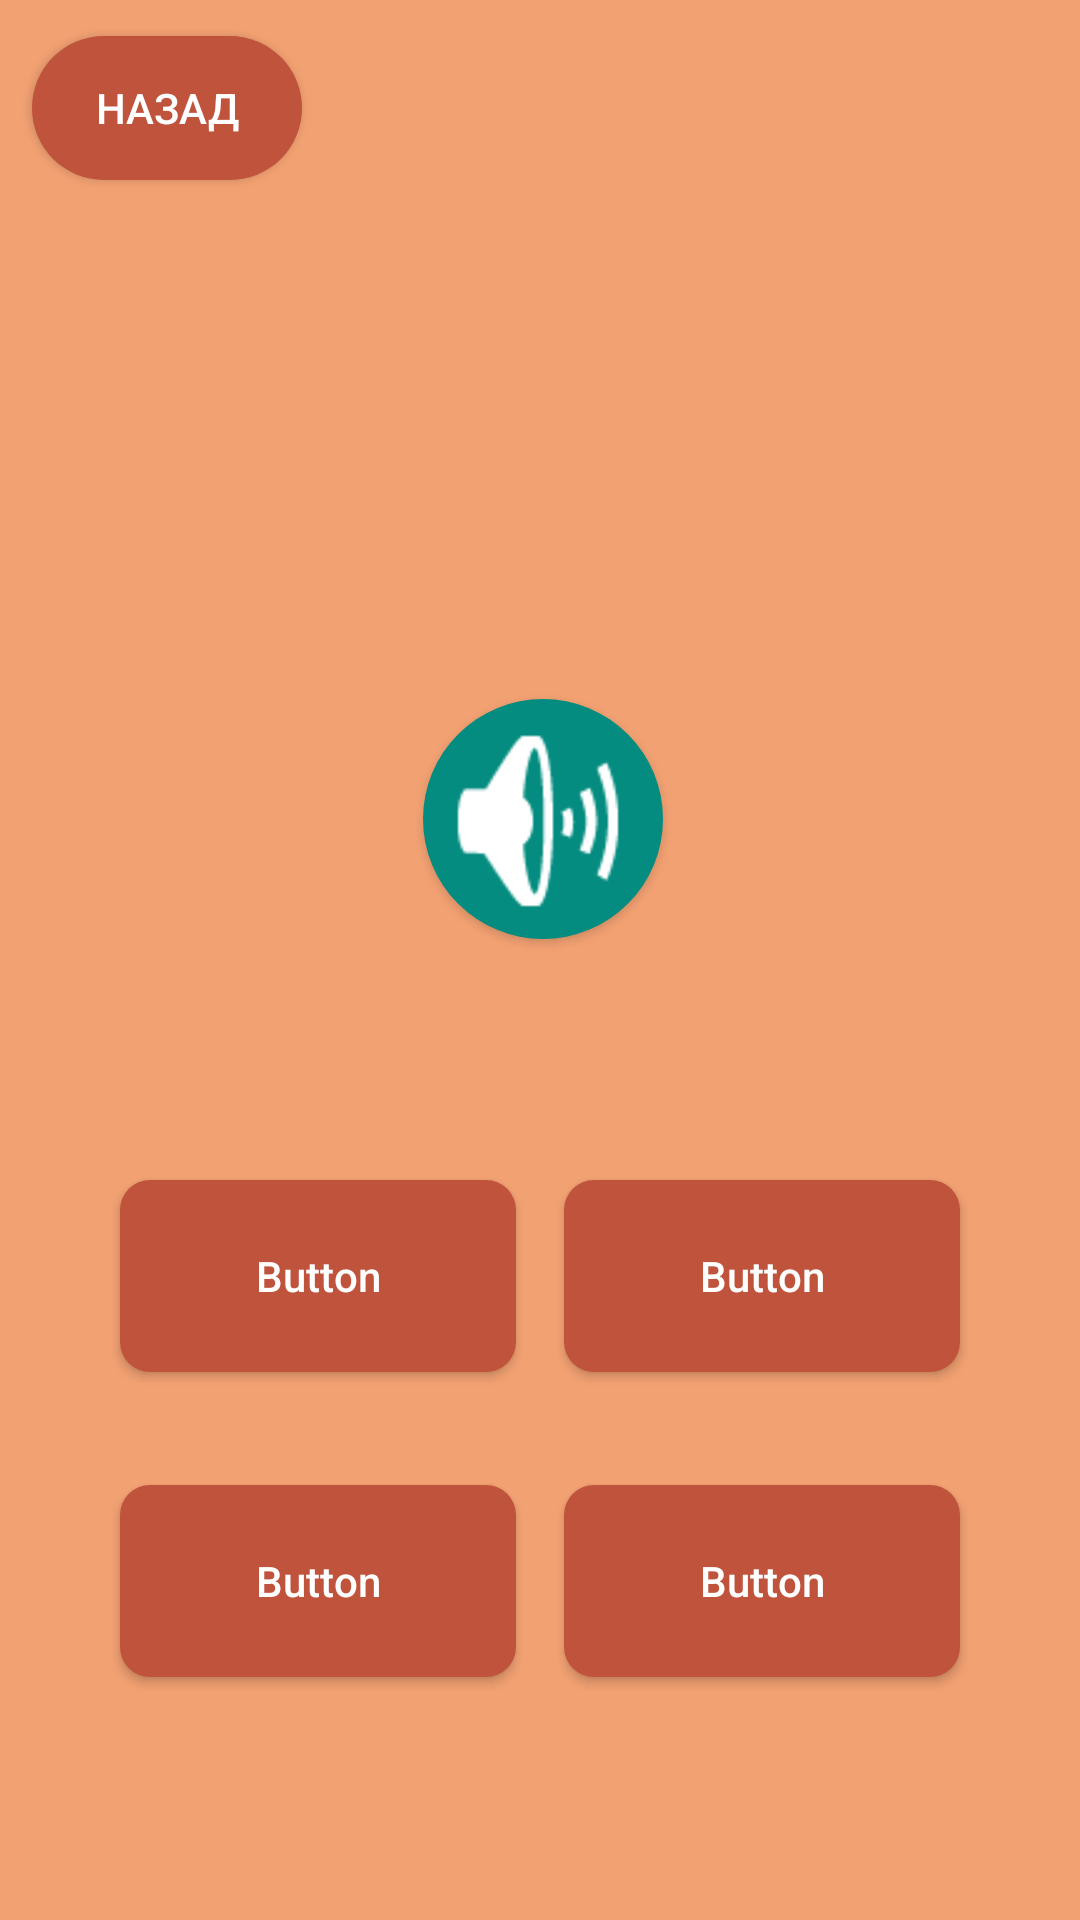

Icons on this 1080×1920 Android screen, each with the point to tap as (x=x, y=y):
lock silent mode off: (x=540, y=820)
